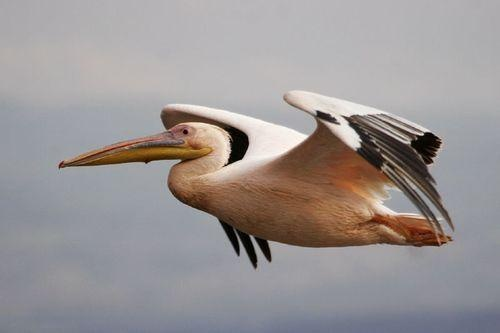bird: (53, 87, 453, 262)
